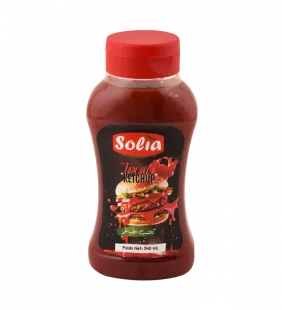SOLIA: (76, 20, 204, 290)
